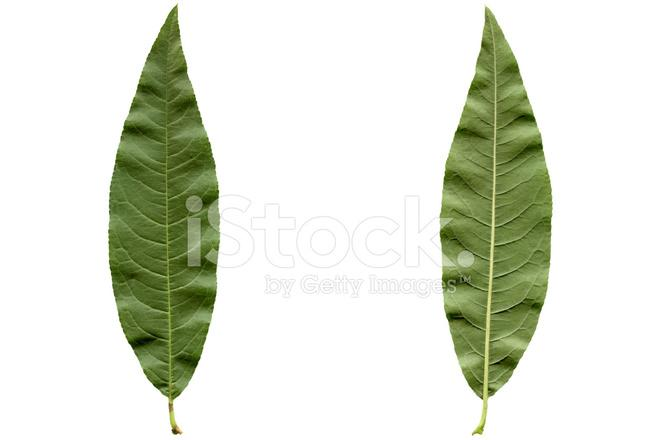Peach leaf: (405, 8, 562, 439), (105, 2, 232, 439)
